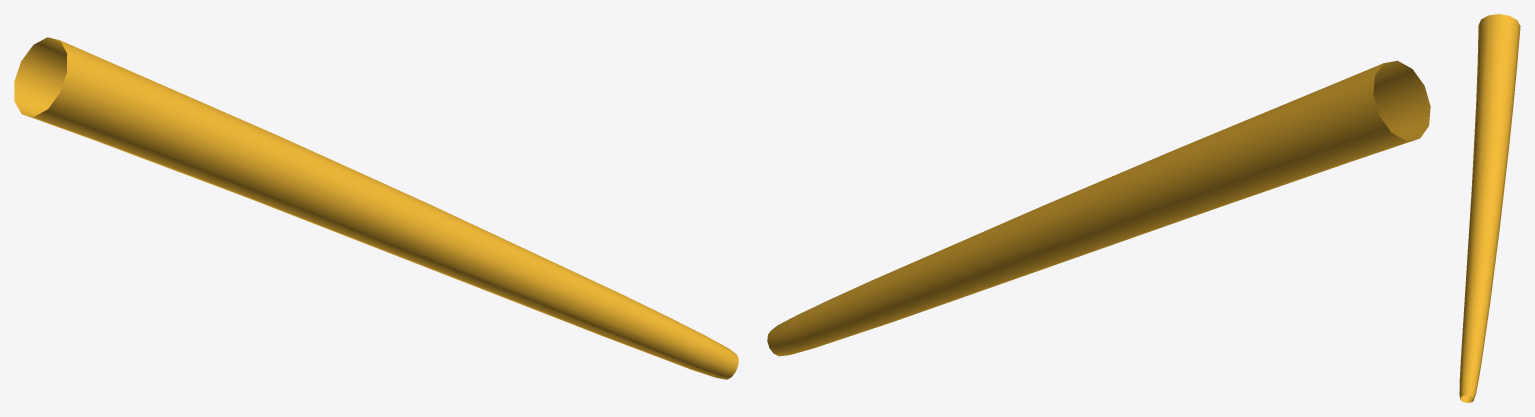
Rendered from nervoso-posterior-division-of-inferior-trunk-of-brachial-plexus-l.glb.
3 renders of one model, left to right at view 1: azimuth 30°, elevation 25°; view 2: azimuth 150°, elevation 25°; view 3: azimuth 270°, elevation 25°, orthographic. The views are drawn at different scales.
Visible parts, largest first — view 1: Posterior division of inferior trunk of brachial plexus.l; view 2: Posterior division of inferior trunk of brachial plexus.l; view 3: Posterior division of inferior trunk of brachial plexus.l.
Boxes of the visible parts, <box> form: Posterior division of inferior trunk of brachial plexus.l: <box>14,37,738,379</box>; Posterior division of inferior trunk of brachial plexus.l: <box>767,60,1430,356</box>; Posterior division of inferior trunk of brachial plexus.l: <box>1459,14,1520,402</box>.
Bounding box in the file's own units: 0.0281 × 0.0185 × 0.00435.
